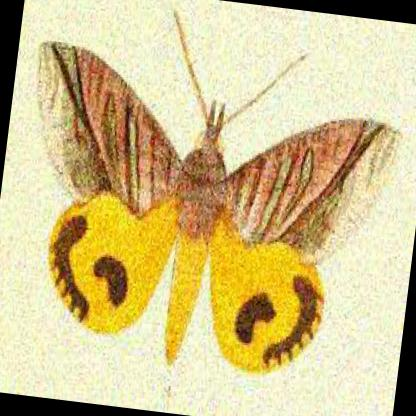fruit sucking moth: (37, 44, 401, 373)
